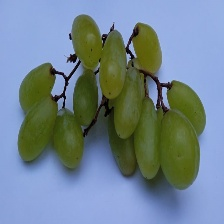grapes: (47, 16, 196, 212)
